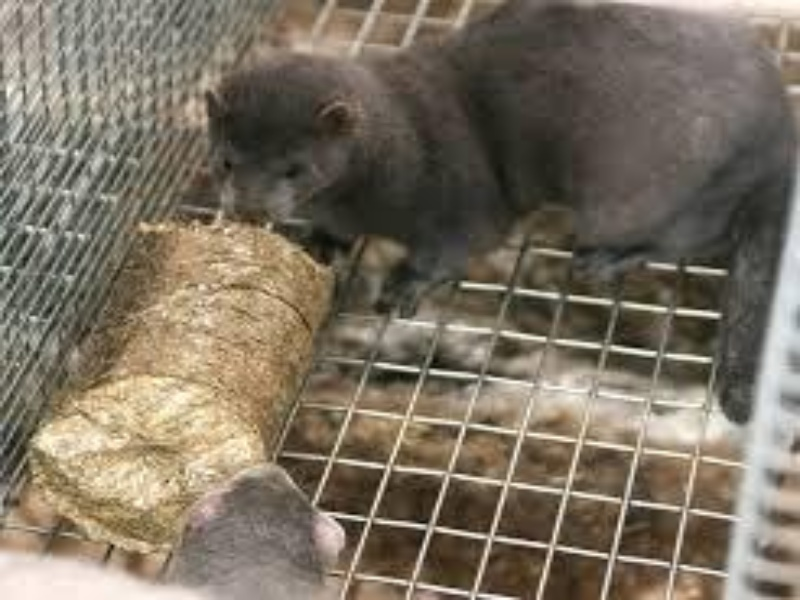minkish: (203, 4, 800, 316)
